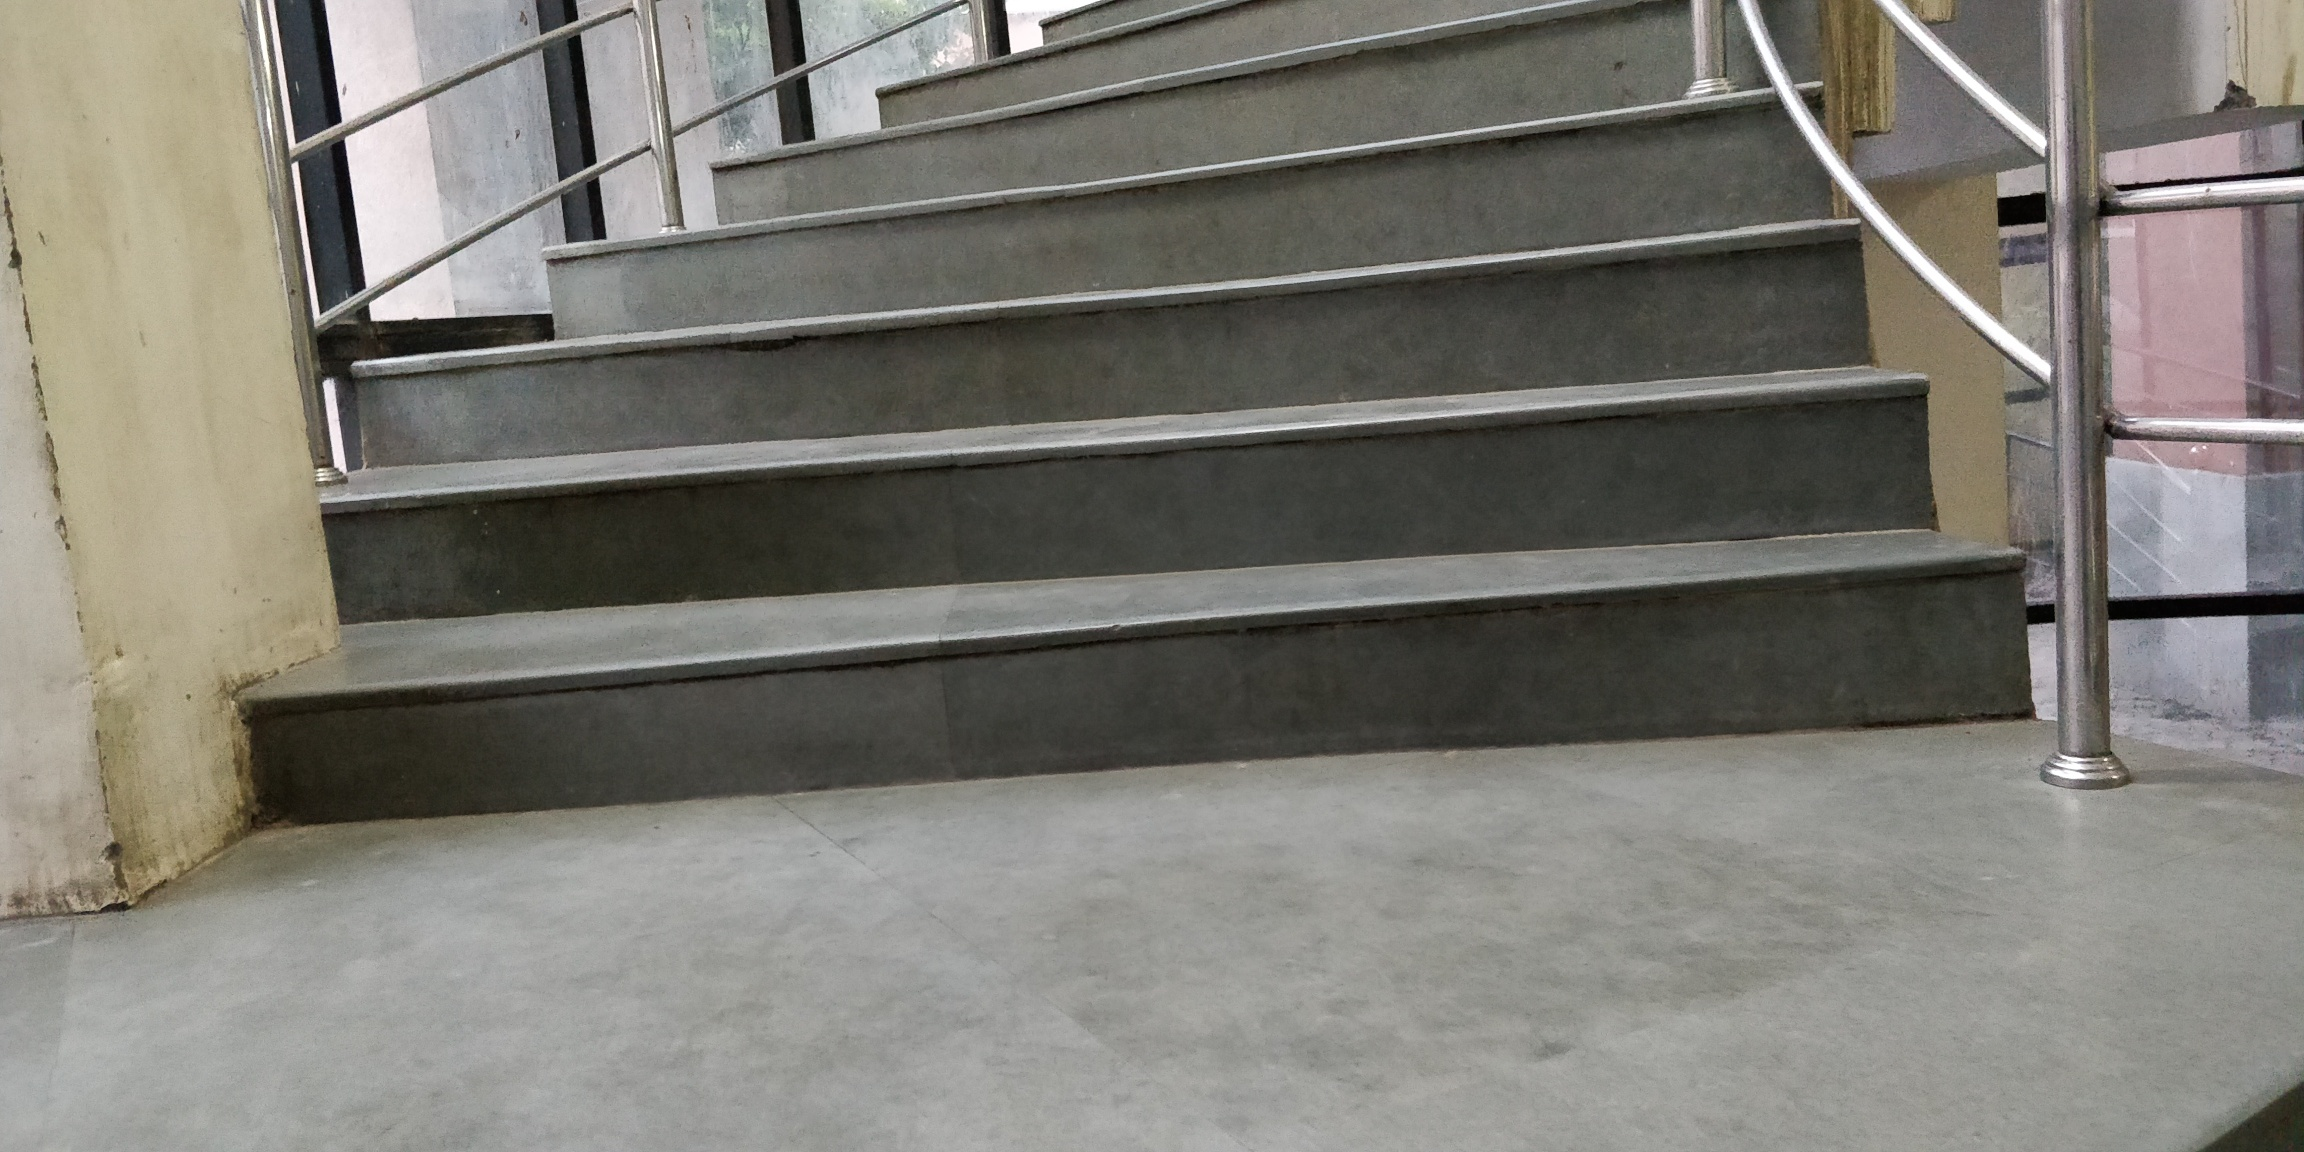stairs_up: (26, 32, 1931, 910)
